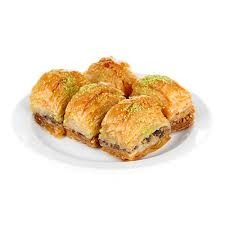baklava: (98, 95, 170, 160), (29, 70, 87, 136), (130, 75, 194, 131), (63, 83, 124, 138), (86, 57, 135, 95)
